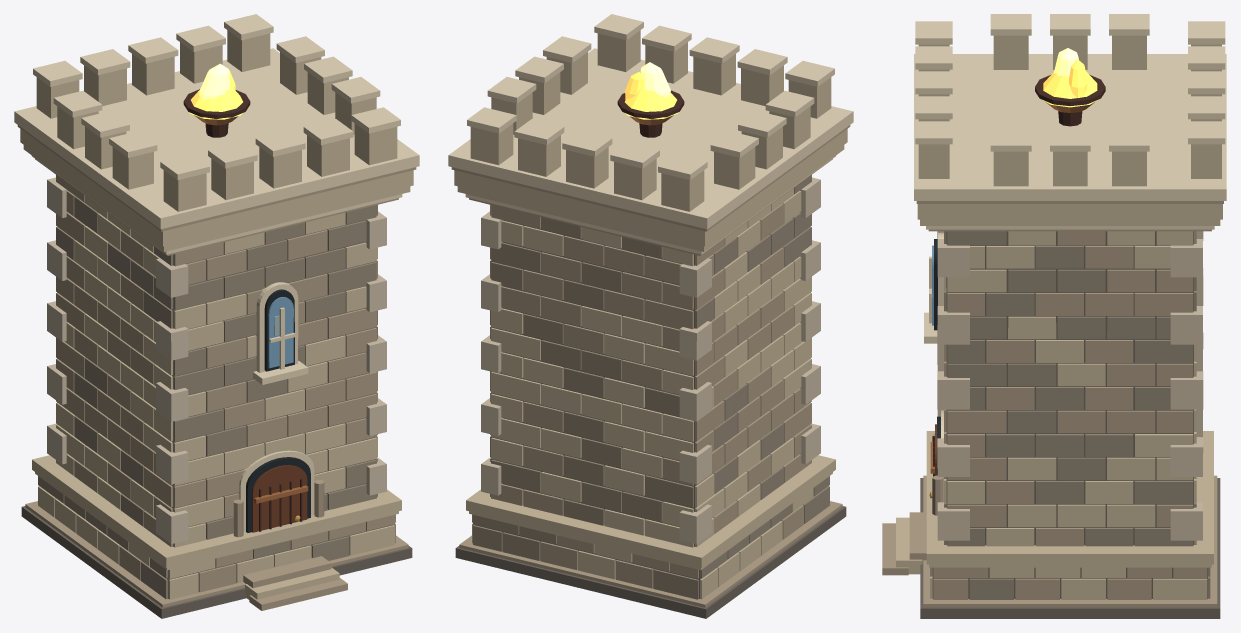
The model's file is watch-nivel-4.glb.
The picture shows the model from 3 angles, left to right: view 1: azimuth 30°, elevation 25°; view 2: azimuth 150°, elevation 25°; view 3: azimuth 270°, elevation 25°; orthographic projection. The views are drawn at different scales.
Parts seen in each view (by area): view 1: Vigia 04 #cebea0, Vigia 04 #b4a38a, Vigia 04 #e6d7ba, Vigia 04 #9b8f7c, Vigia 04 #d2c4ad, Vigia 04 #746c62, Vigia 04 #70432c, Vigia 04 #252c32, Vigia 04 #4c3028, Vigia 04 #567185, Chama de vigia 1 #ff9a44, Chama de vigia 1 #ffd778 (+1 smaller); view 2: Vigia 04 #cebea0, Vigia 04 #b4a38a, Vigia 04 #e6d7ba, Vigia 04 #9b8f7c, Vigia 04 #d2c4ad, Vigia 04 #746c62, Chama de vigia 1 #ff9a44, Vigia 04 #4c3028, Chama de vigia 1 #ffd778; view 3: Vigia 04 #cebea0, Vigia 04 #e6d7ba, Vigia 04 #b4a38a, Vigia 04 #9b8f7c, Vigia 04 #d2c4ad, Vigia 04 #746c62, Chama de vigia 1 #ff9a44, Vigia 04 #4c3028, Vigia 04 #252c32, Chama de vigia 1 #ffd778.
Boxes of the visible parts, x1,y1,x2,y2 form: Vigia 04 #cebea0: (20, 30, 413, 599); Vigia 04 #b4a38a: (17, 125, 416, 610); Vigia 04 #e6d7ba: (14, 14, 419, 532); Vigia 04 #9b8f7c: (38, 196, 377, 599); Vigia 04 #d2c4ad: (47, 177, 386, 543); Vigia 04 #746c62: (21, 220, 412, 618); Vigia 04 #70432c: (252, 465, 307, 532); Vigia 04 #252c32: (246, 289, 310, 532); Vigia 04 #4c3028: (183, 89, 302, 531); Vigia 04 #567185: (268, 297, 293, 368); Chama de vigia 1 #ff9a44: (189, 70, 242, 119); Chama de vigia 1 #ffd778: (199, 63, 230, 100); Vigia 04 #cebea0: (454, 30, 847, 599); Vigia 04 #b4a38a: (451, 125, 850, 607); Vigia 04 #e6d7ba: (448, 14, 853, 254); Vigia 04 #9b8f7c: (473, 175, 829, 599); Vigia 04 #d2c4ad: (481, 177, 820, 543); Vigia 04 #746c62: (455, 220, 846, 618); Chama de vigia 1 #ff9a44: (625, 72, 678, 119); Vigia 04 #4c3028: (617, 90, 684, 137); Chama de vigia 1 #ffd778: (640, 62, 670, 97); Vigia 04 #cebea0: (896, 35, 1222, 599); Vigia 04 #e6d7ba: (914, 14, 1226, 502); Vigia 04 #b4a38a: (882, 201, 1223, 607); Vigia 04 #9b8f7c: (944, 231, 1210, 599); Vigia 04 #d2c4ad: (937, 231, 1203, 540); Vigia 04 #746c62: (920, 231, 1220, 618); Chama de vigia 1 #ff9a44: (1038, 59, 1102, 107); Vigia 04 #4c3028: (933, 74, 1105, 476); Vigia 04 #252c32: (934, 239, 940, 475); Chama de vigia 1 #ffd778: (1053, 48, 1078, 76).
Size of the model in its own units: 4.23 by 7.39 by 4.55.
